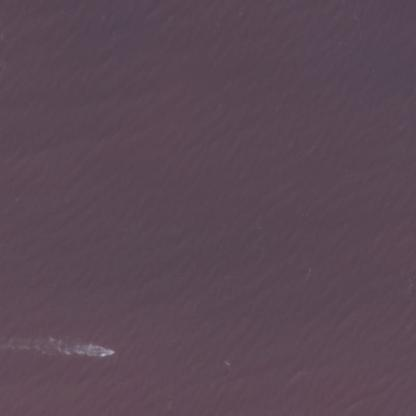ship: (98, 339, 119, 361)
